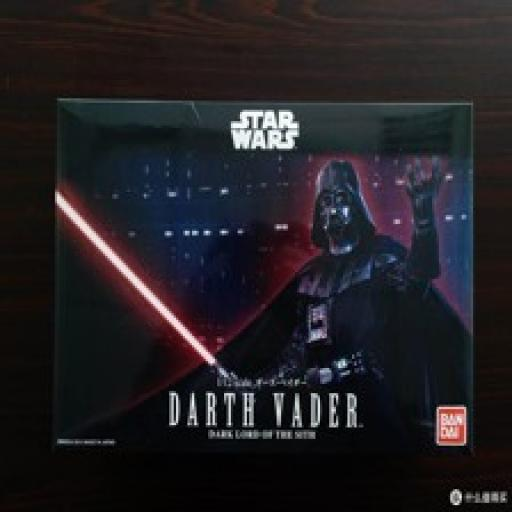sith saber: (54, 187, 246, 394)
